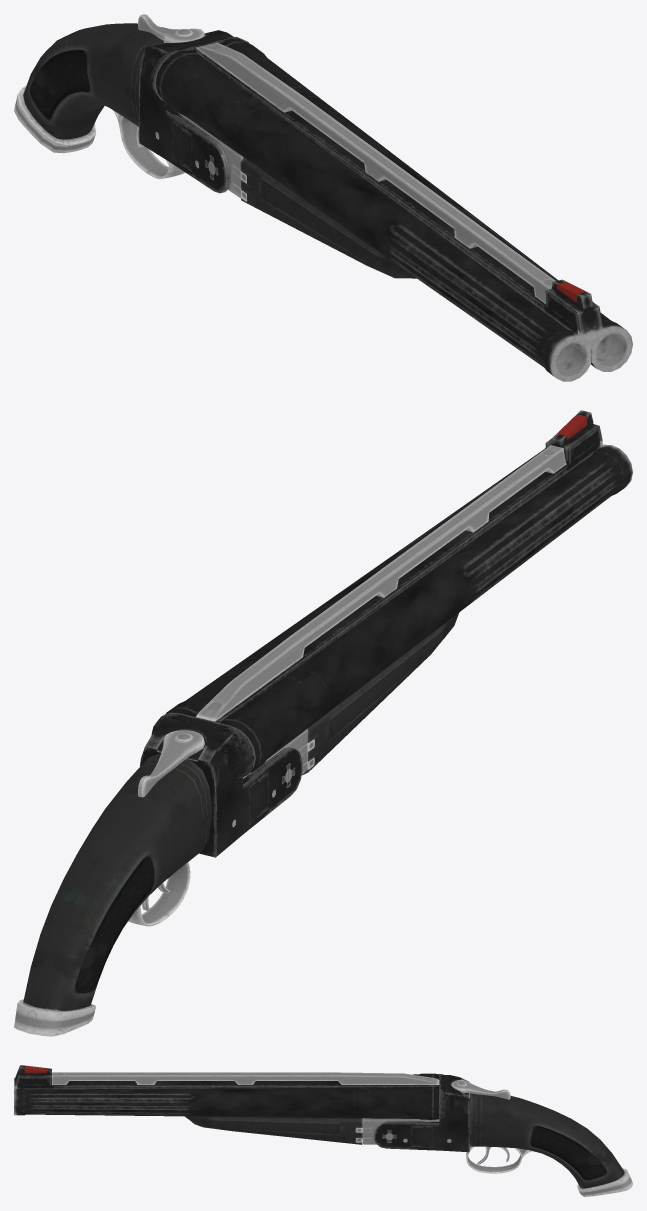
The model's file is scatter-super-shotgun.glb.
3 views of the same model, one above another, from view 1: azimuth 30°, elevation 25°; view 2: azimuth 150°, elevation 25°; view 3: azimuth 270°, elevation 25° (orthographic). The views are drawn at different scales.
Visible parts, largest first — view 1: ShotgunLow.005, ShotgunLow.004; view 2: ShotgunLow.005, ShotgunLow.004; view 3: ShotgunLow.005, ShotgunLow.004.
Part boxes in pixels (<box>): ShotgunLow.005: <box>155,39,632,381</box>; ShotgunLow.004: <box>14,14,249,193</box>; ShotgunLow.005: <box>165,410,632,778</box>; ShotgunLow.004: <box>14,712,302,1036</box>; ShotgunLow.005: <box>14,1065,439,1144</box>; ShotgunLow.004: <box>374,1074,632,1196</box>.
Size of the model in its own units: 0.0712 by 0.1529 by 0.6808.
Materials: 1 (1 with a texture image).
